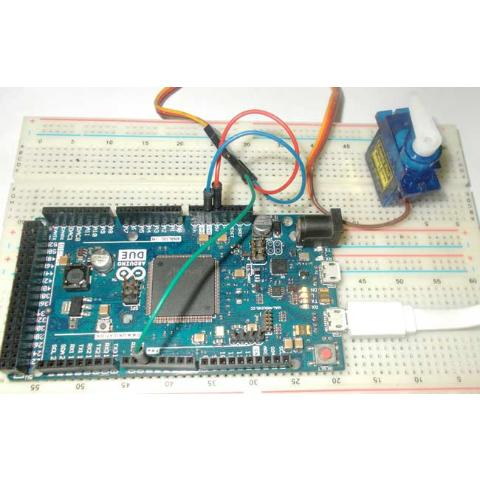Arduino-Due: (0, 199, 352, 384)
